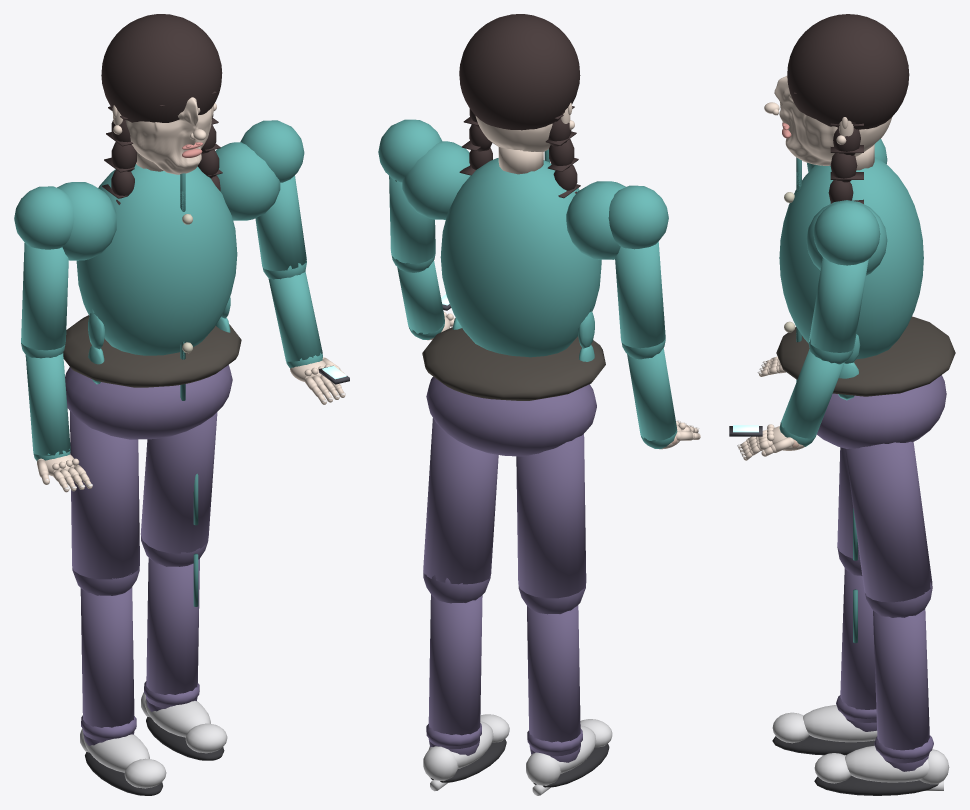
File: hm_ped_suki_v7.glb
3 views of the same model, side by side, from view 1: azimuth 30°, elevation 25°; view 2: azimuth 150°, elevation 25°; view 3: azimuth 270°, elevation 25° (orthographic).
Parts seen in each view (by area): view 1: hm_ped_suki; view 2: hm_ped_suki; view 3: hm_ped_suki.
Boxes of the visible parts, x1,y1,x2,y2 form: hm_ped_suki: [14, 14, 349, 795]; hm_ped_suki: [378, 14, 700, 795]; hm_ped_suki: [729, 14, 955, 795].
Bounding box in the file's own units: 0.7142 × 1.74 × 0.4747.
